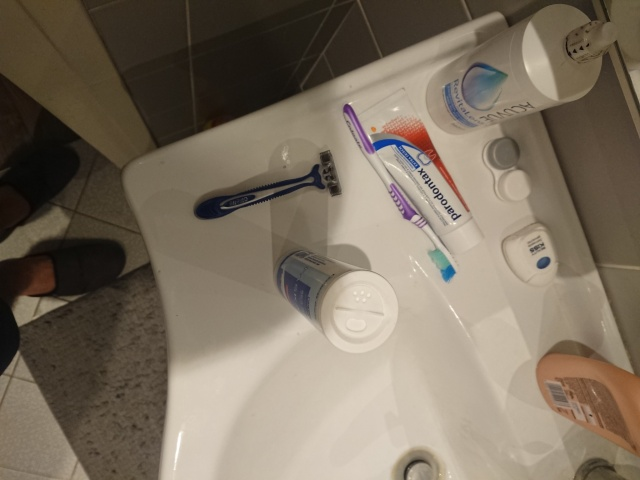Solana Pag Fine Sea Salt 250g: (271, 244, 401, 356)
